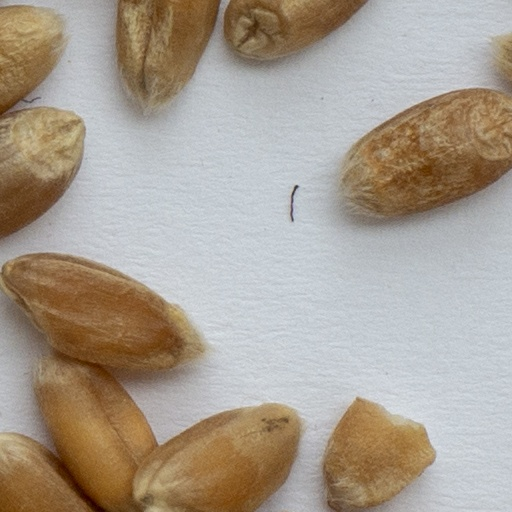Wheat-grain-damaged-poly: (320, 393, 436, 509)
Wheat-grain-poly: (0, 254, 202, 376), (335, 88, 511, 221), (37, 349, 152, 509), (134, 403, 298, 511), (117, 0, 218, 115), (0, 108, 84, 235), (226, 0, 363, 60), (0, 433, 86, 511), (476, 27, 511, 88)
